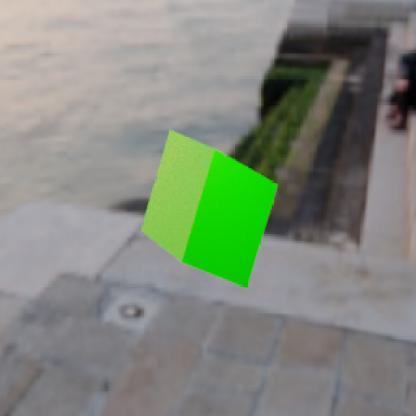cube: (139, 128, 277, 288)
